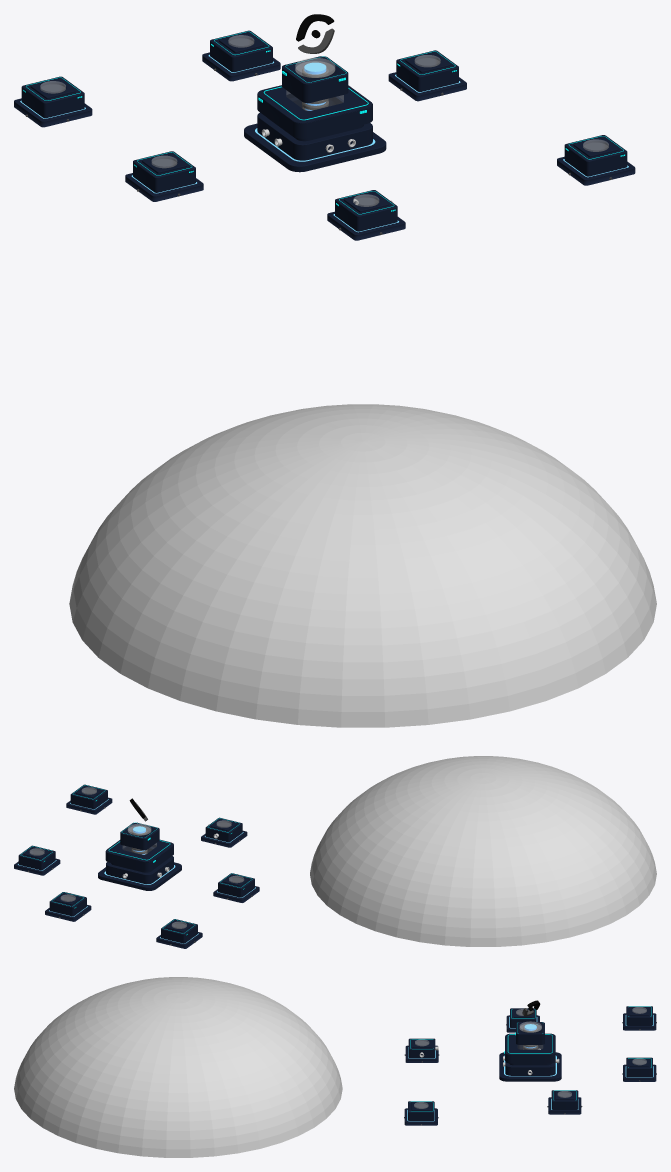
The model's file is Test_for_blender(16)copy.glb.
3 views of the same model, one above another, from view 1: azimuth 30°, elevation 25°; view 2: azimuth 150°, elevation 25°; view 3: azimuth 270°, elevation 25° (orthographic). The views are drawn at different scales.
Parts seen in each view (by area): view 1: Sphere, Cube, Platform.003, Platform.002, Platform.004, Platform.001, Platform.005, Platform; view 2: Sphere, Cube, Platform.001, Platform.002, Platform.004, Platform.005, Platform, Platform.003; view 3: Sphere, Cube, Platform.001, Platform.003, Platform.002, Platform.004, Platform, Platform.005.
Part boxes in pixels (<box>): Sphere: <box>69,404,656,727</box>; Cube: <box>244,56,386,172</box>; Platform.003: <box>14,76,92,127</box>; Platform.002: <box>557,135,635,185</box>; Platform.004: <box>202,30,280,81</box>; Platform.001: <box>388,50,466,101</box>; Platform.005: <box>125,151,203,201</box>; Platform: <box>327,190,405,240</box>; Sphere: <box>310,756,656,946</box>; Cube: <box>98,822,181,890</box>; Platform.001: <box>14,845,60,875</box>; Platform.002: <box>66,784,112,814</box>; Platform.004: <box>45,892,91,921</box>; Platform.005: <box>213,873,259,902</box>; Platform: <box>201,817,247,847</box>; Platform.003: <box>156,919,202,948</box>; Sphere: <box>14,977,342,1157</box>; Cube: <box>499,1022,561,1081</box>; Platform.001: <box>548,1090,581,1114</box>; Platform.003: <box>623,1006,656,1030</box>; Platform.002: <box>404,1101,437,1125</box>; Platform.004: <box>623,1057,656,1081</box>; Platform: <box>405,1038,438,1062</box>; Platform.005: <box>506,1008,539,1032</box>.
Size of the model in its own units: 62.26 by 23.62 by 84.82.
